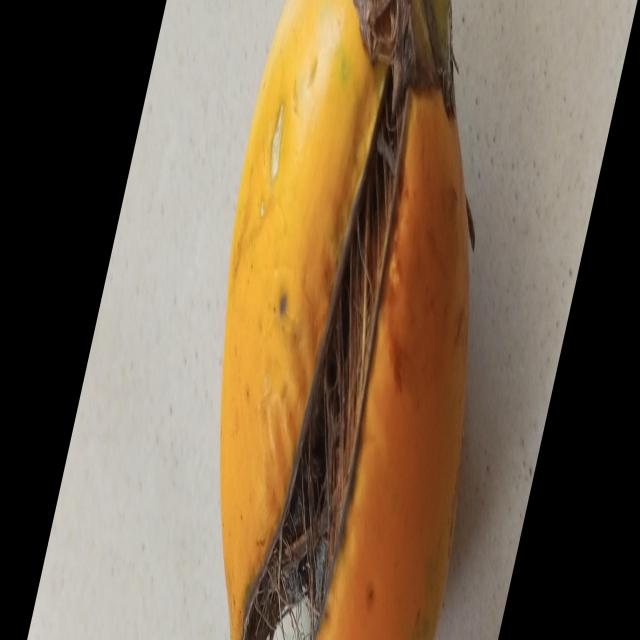damaged: (218, 0, 473, 640)
